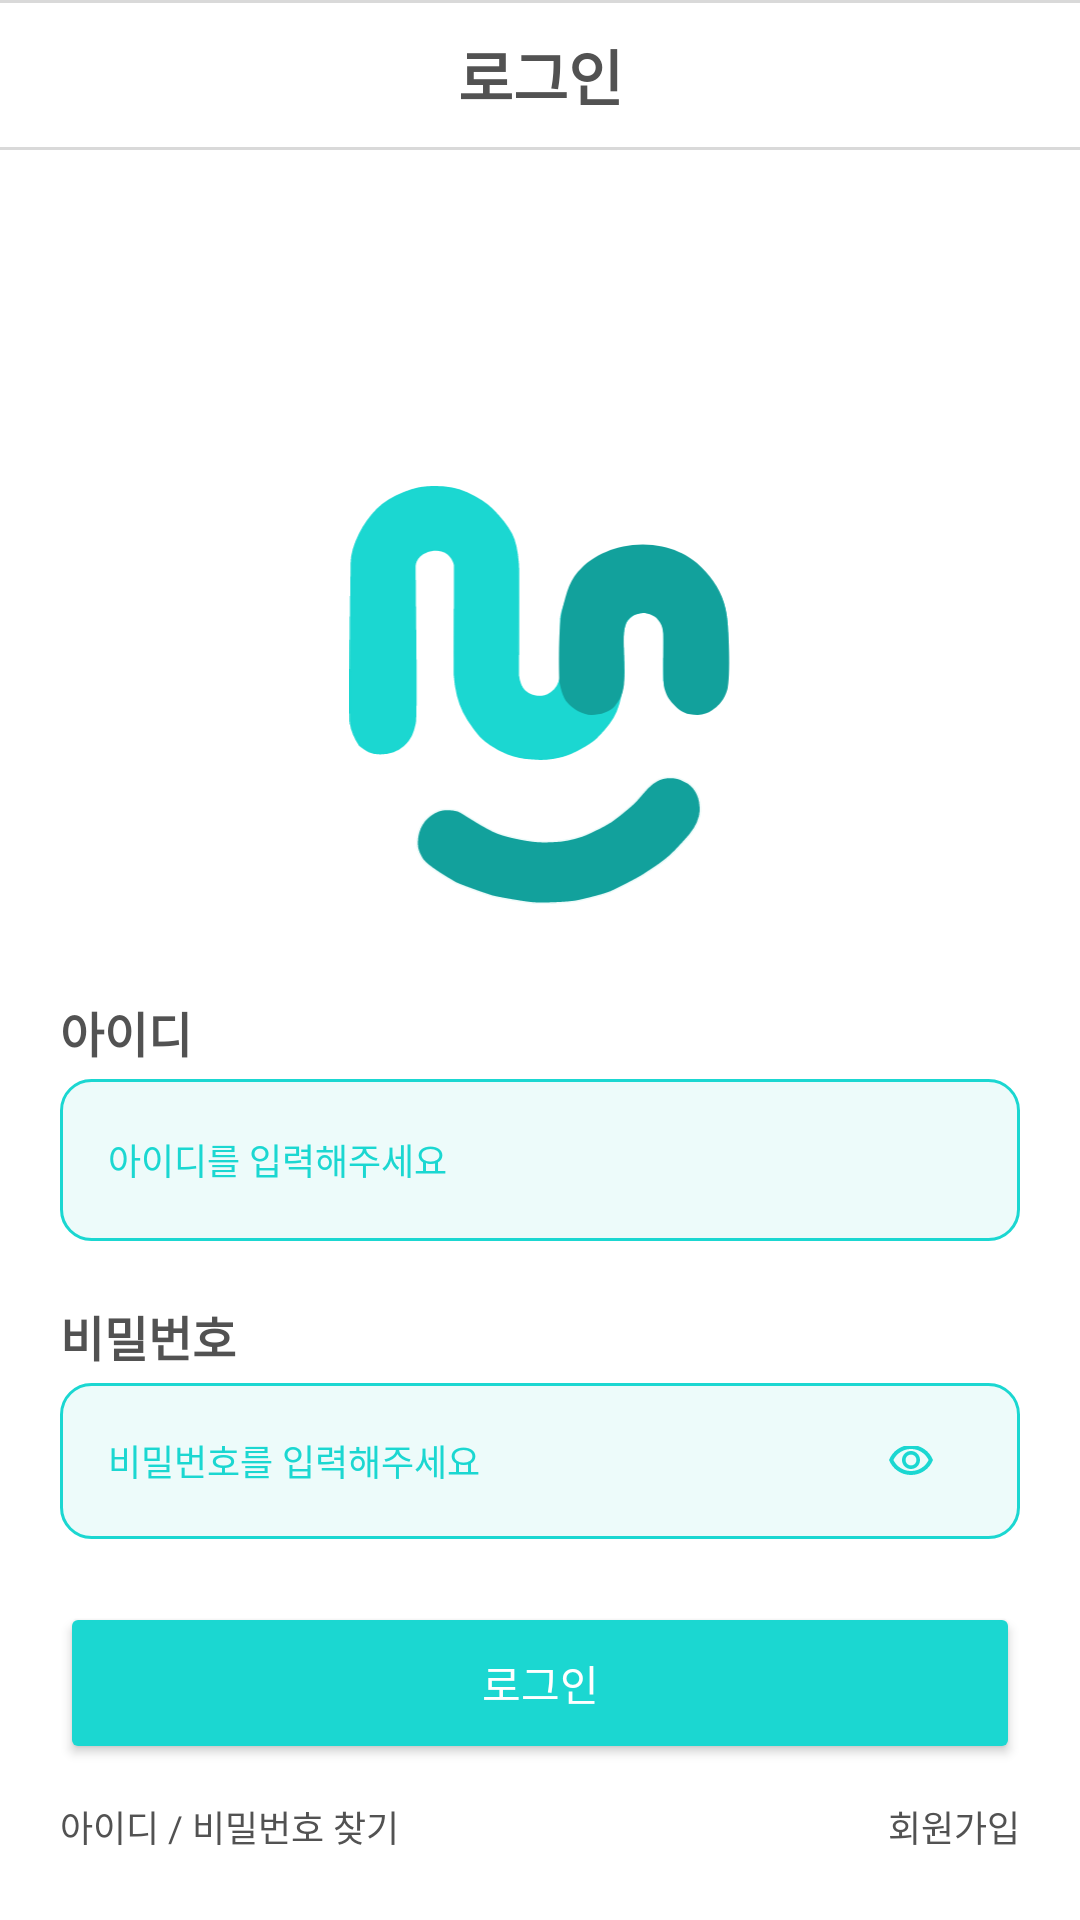

Screen size 1080px x 1920px. Icon name, then its box in pixels as (x1, y1, x2, y2):
비밀번호 보기: (889, 1446, 933, 1475)
